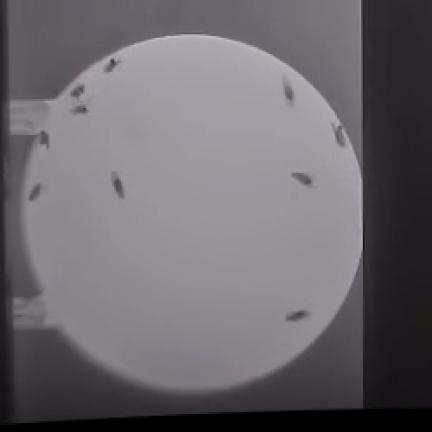fly: (111, 171, 124, 199), (282, 76, 295, 104), (332, 125, 347, 147), (293, 173, 312, 187), (287, 310, 309, 322), (28, 184, 43, 201), (39, 132, 50, 149), (106, 58, 120, 71), (71, 85, 84, 98), (73, 105, 88, 115)
